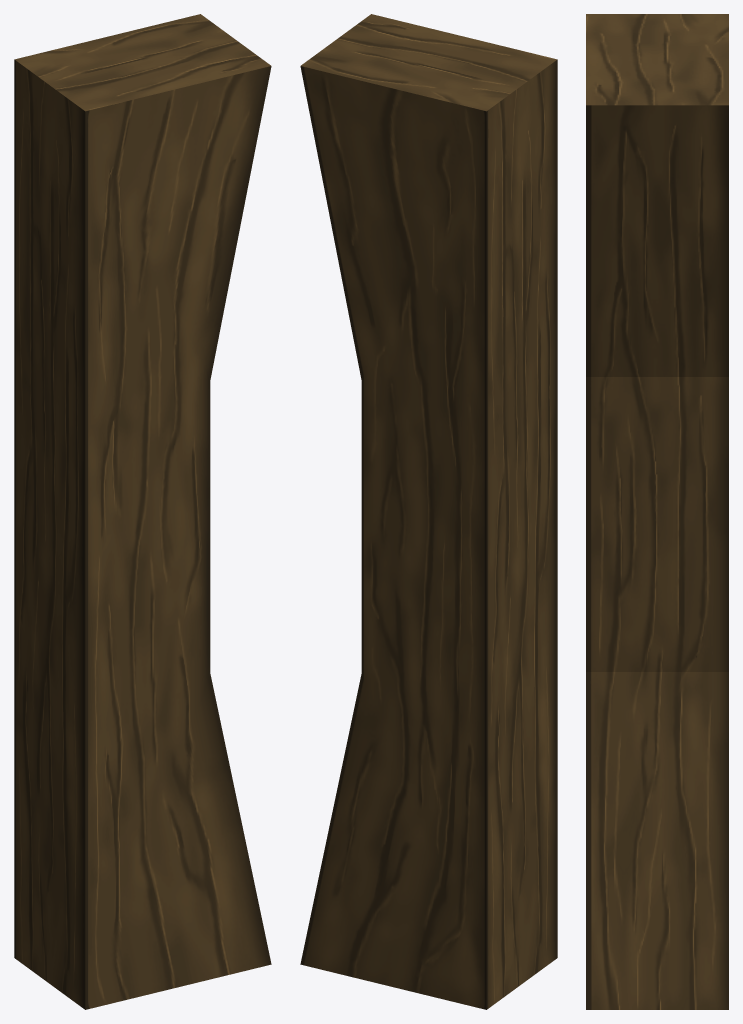
File: belka_001.fbx
3 views of the same model, side by side, from view 1: azimuth 30°, elevation 25°; view 2: azimuth 150°, elevation 25°; view 3: azimuth 270°, elevation 25° (orthographic).
Parts seen in each view (by area): view 1: Cube; view 2: Cube; view 3: Cube.
Boxes of the visible parts, <box> form: Cube: <box>14,14,271,1009</box>; Cube: <box>300,14,557,1009</box>; Cube: <box>586,14,728,1009</box>.
Size of the model in its own units: 86.76 by 400 by 57.24.
